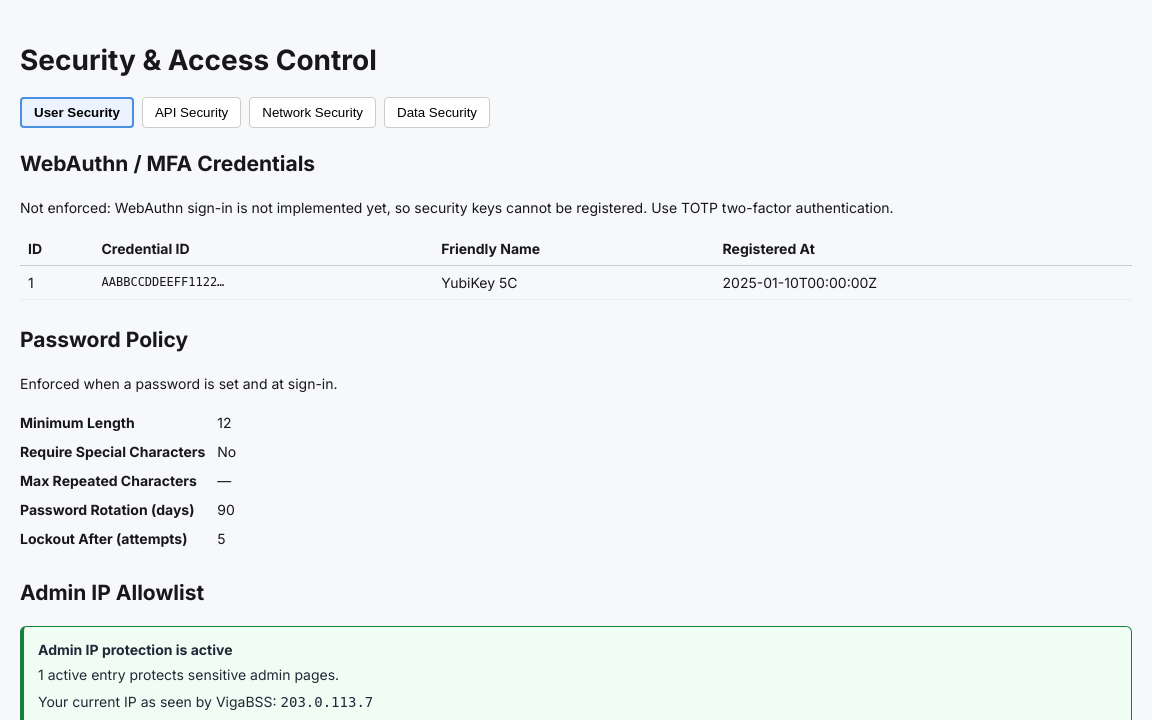
SecurityAccessControlPage (§17) › switches to Network Security tab and shows firewall rules
The width and height of the screenshot is (1152, 720).
Click the button "Network Security" at (313, 112), box [249,97,376,128]
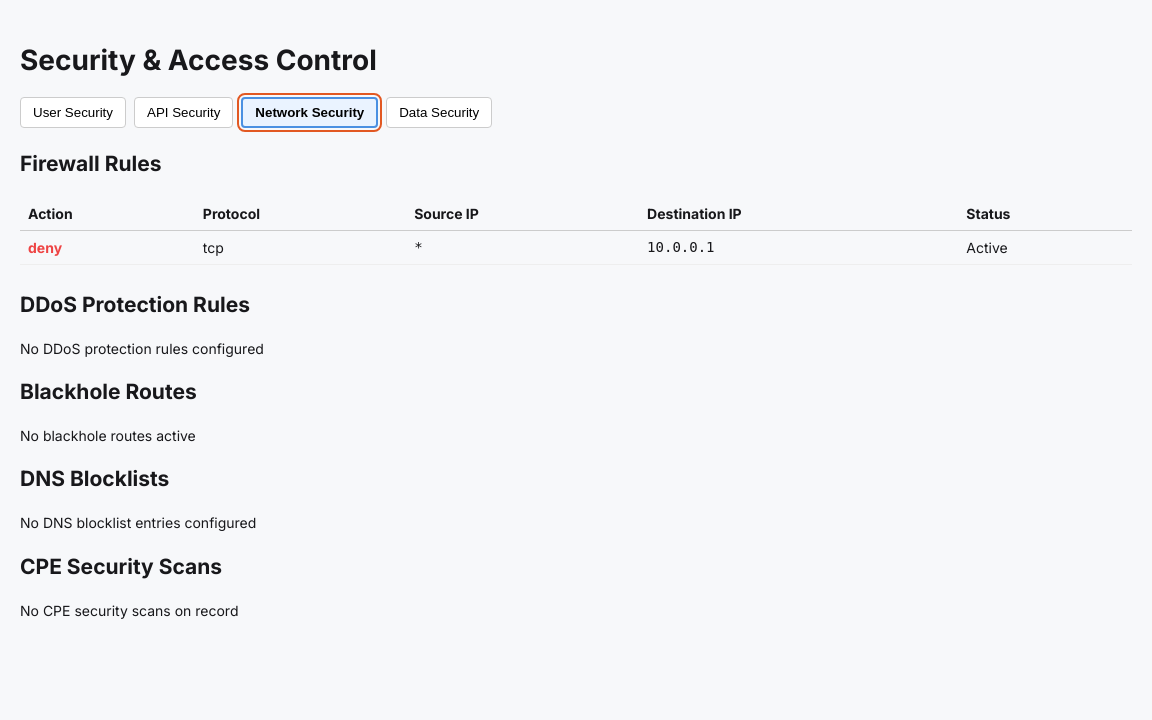
Expected: the text "deny" is shown, [28,239,62,256]
